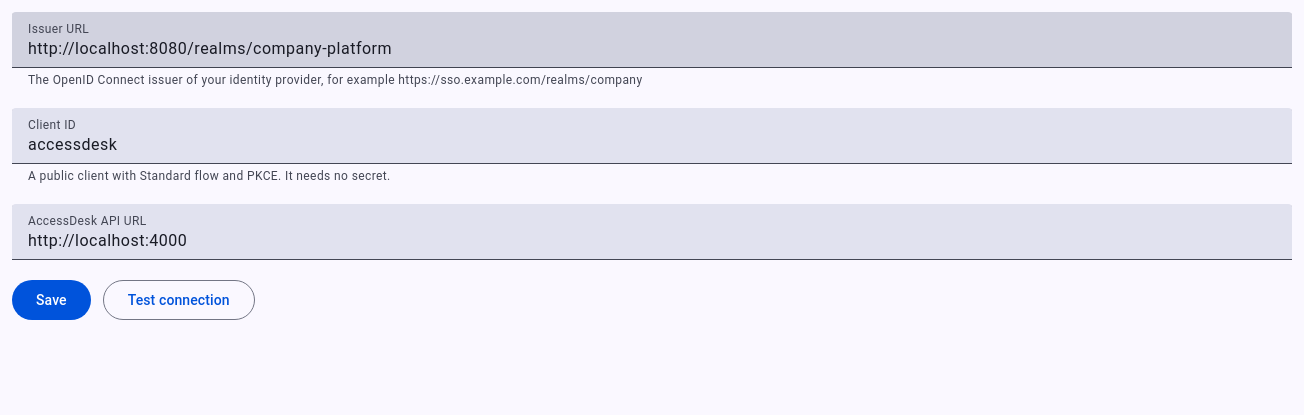
it: connection settings form › reports a successful and a failed connection test
Click the button "Test connection". click: (179, 300)
box: [103,280,255,320]
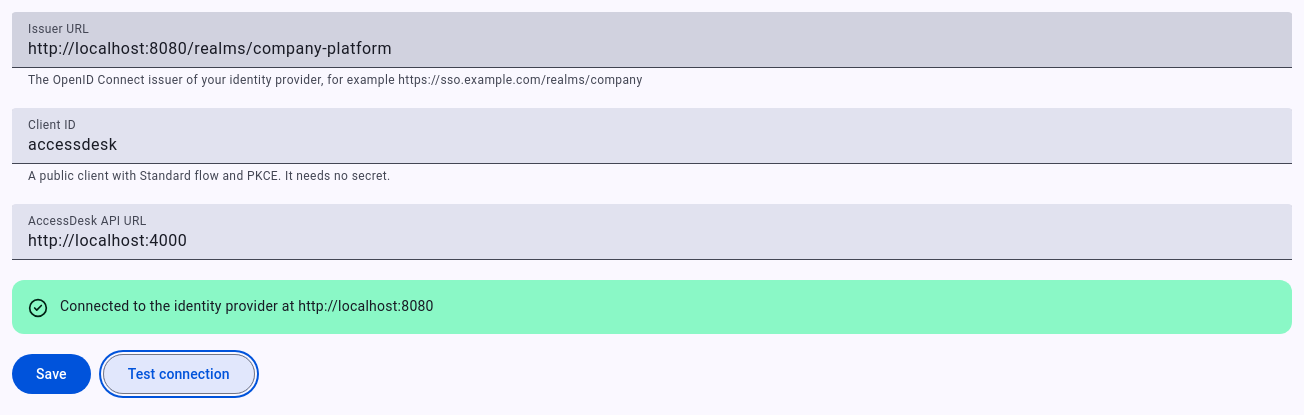
Expected: the message shows "Connected to the identity provider", [60,298,434,314]
Click the button "Test connection". click: (179, 374)
box: [103,354,255,394]
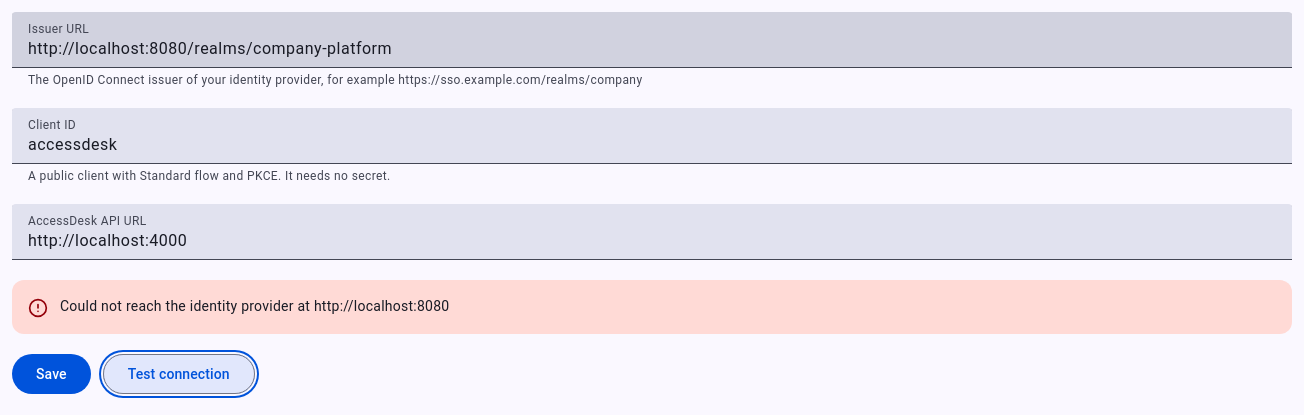
Expected: the message shows "Could not reach the identity provider", [60,298,449,314]
